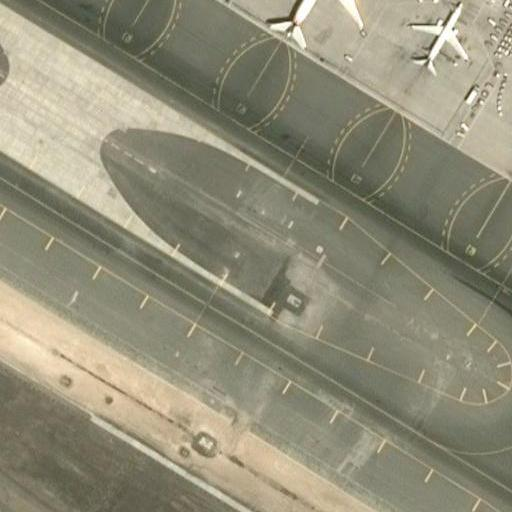Aircraft: (255, 0, 366, 50), (407, 0, 469, 77)
